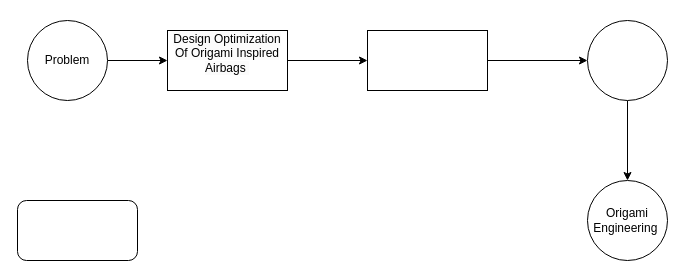
This 685x278 diagram has some shape labels left out. The shapes that lost their labels are listed below. From the top down, each one's box as (x1, y1, x2, y2) in pixels, then its label:
(366, 30, 488, 90): Literature Survay
(586, 20, 668, 100): Airbag Technology
